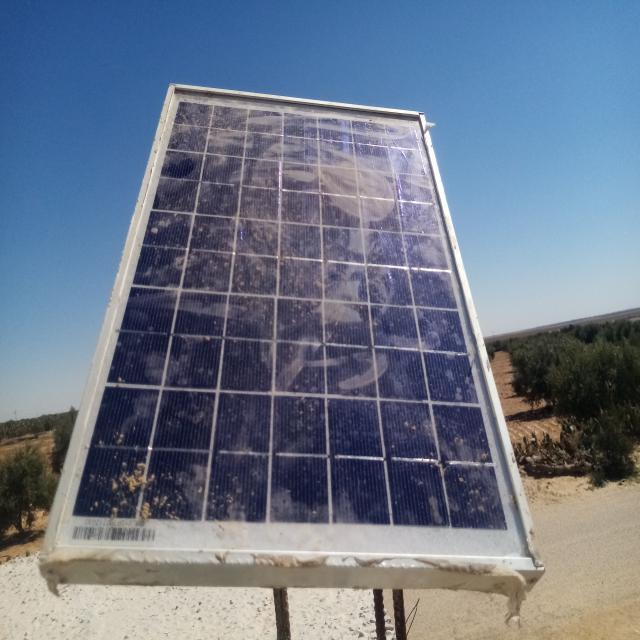faulty: (40, 82, 542, 570)
